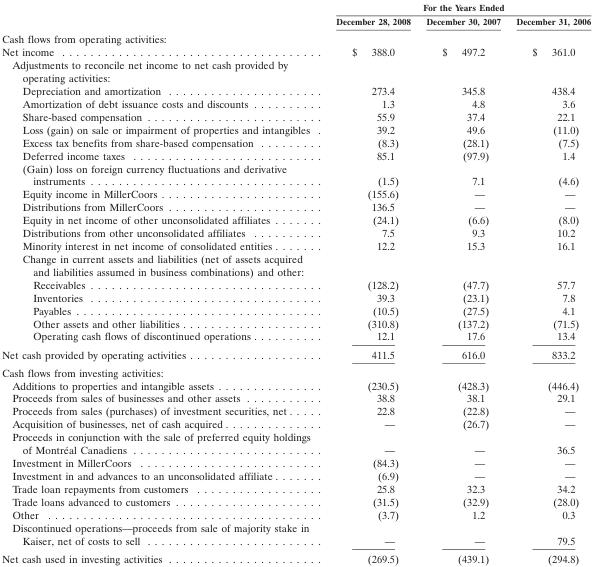table: (1, 1, 590, 564)
table column: (1, 1, 322, 564), (322, 1, 417, 564), (417, 1, 507, 564), (507, 1, 590, 564)
table column header: (1, 1, 590, 29)
table projected row header: (1, 251, 590, 277), (1, 58, 590, 83), (1, 29, 590, 45), (1, 362, 590, 378)
table row: (1, 520, 590, 548), (1, 161, 590, 187), (1, 251, 590, 277), (1, 58, 590, 83), (1, 430, 590, 455), (1, 344, 590, 362), (1, 13, 590, 29), (1, 29, 590, 45), (1, 362, 590, 378), (1, 548, 590, 564), (1, 329, 590, 344), (1, 45, 590, 58), (1, 83, 590, 96), (1, 96, 590, 109), (1, 109, 590, 122), (1, 122, 590, 135), (1, 135, 590, 148), (1, 148, 590, 161), (1, 187, 590, 200), (1, 200, 590, 213), (1, 225, 590, 238), (1, 238, 590, 251), (1, 277, 590, 290), (1, 290, 590, 303), (1, 303, 590, 316), (1, 316, 590, 329), (1, 378, 590, 391), (1, 391, 590, 404), (1, 404, 590, 417), (1, 417, 590, 430), (1, 455, 590, 468), (1, 468, 590, 481), (1, 481, 590, 494), (1, 494, 590, 507), (1, 507, 590, 520), (1, 1, 590, 13), (1, 213, 590, 225)
table spanning cell: (322, 1, 590, 13)
